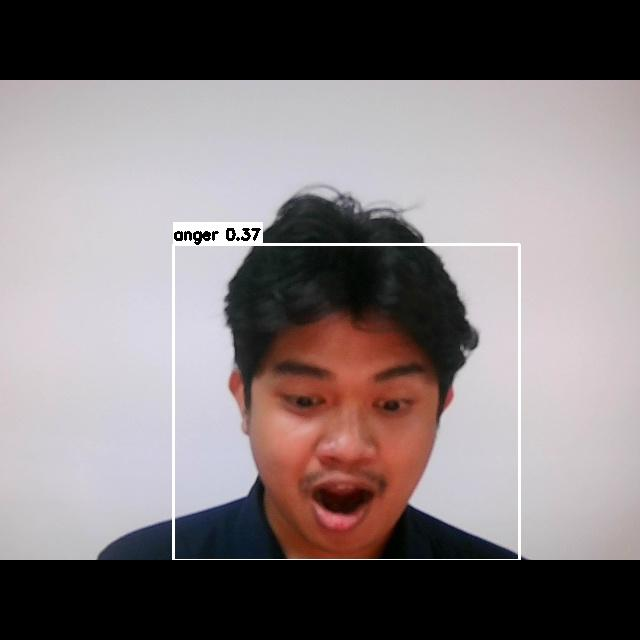Surprised: (249, 341, 441, 544)
